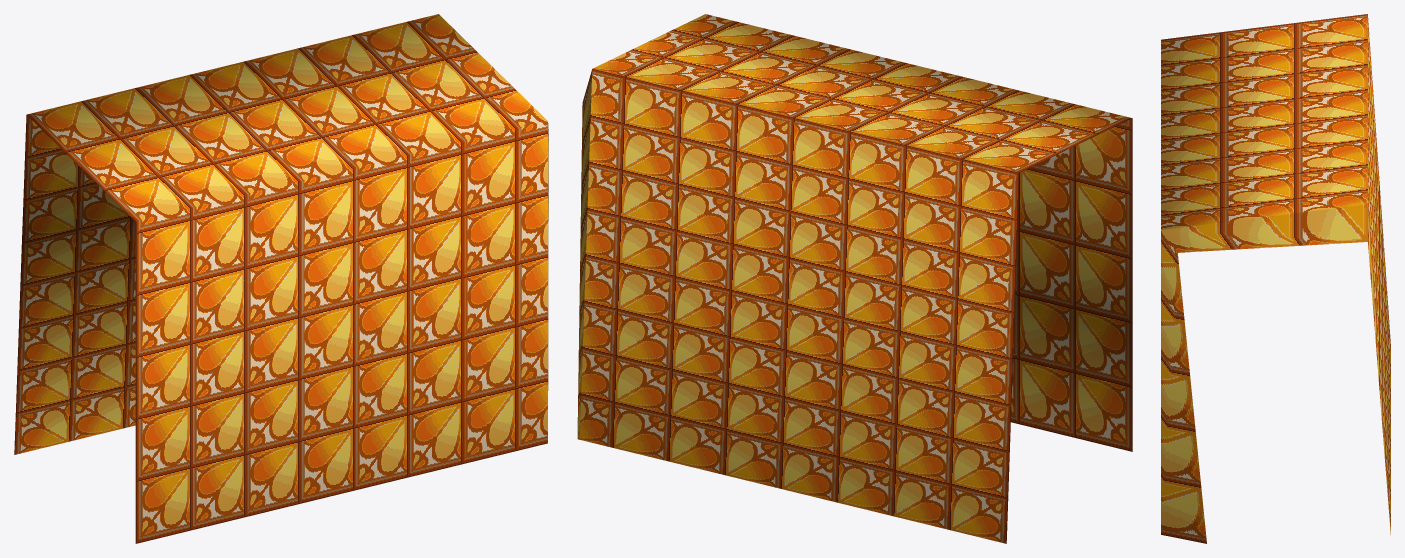
File: 4677floor000_c.gltf
3 views of the same model, side by side, from view 1: azimuth 30°, elevation 25°; view 2: azimuth 150°, elevation 25°; view 3: azimuth 270°, elevation 25° (orthographic). The views are drawn at different scales.
Visible parts, largest first — view 1: 4677floor000_c; view 2: 4677floor000_c; view 3: 4677floor000_c.
Boxes of the visible parts, left/top/right/bottom form: 4677floor000_c: left=14, top=14, right=548, bottom=543; 4677floor000_c: left=577, top=14, right=1132, bottom=543; 4677floor000_c: left=1161, top=14, right=1390, bottom=543.
Bounding box in the file's own units: 2.05 × 1.59 × 1.
Materials: 1 (1 with a texture image).
